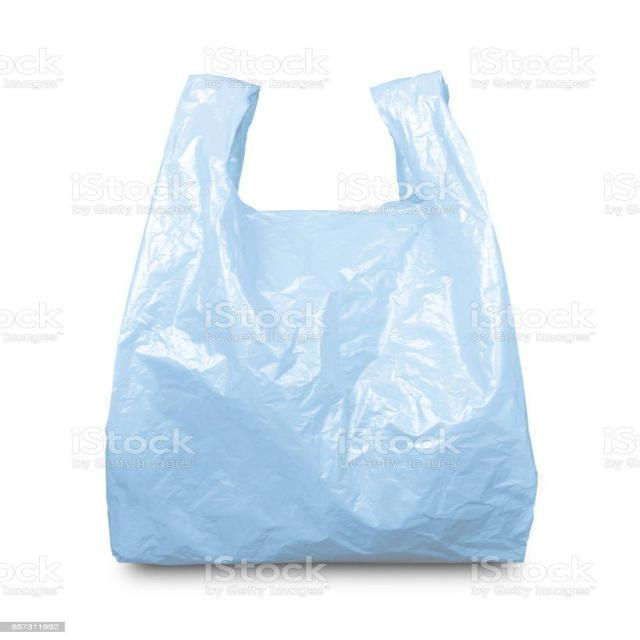Plastic_Bag: (96, 59, 541, 572)
